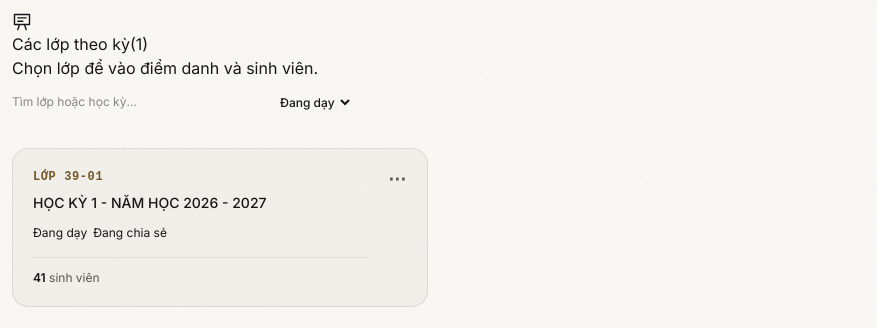
Test: TeachingClassCards › switches status filter to archived or all
// Switch to all
Select "Tất cả lớp" in the dropdown with test id "teaching-status-filter" at (314, 102), box [276,80,353,124]
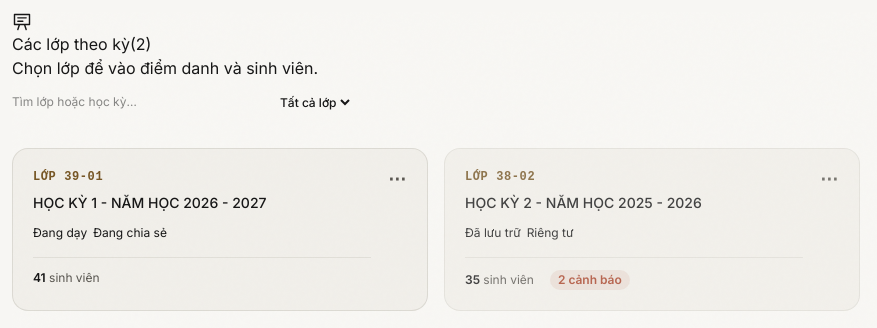
Check: the text "Lớp 39-01" is shown, box [33,170,103,184]
Check: the text "Lớp 38-02" is shown, box [465,170,535,184]
Check: the text "2 cảnh báo" is shown, box [550,270,630,290]
// Switch to archived
Select "Đã lưu trữ" in the dropdown with test id "teaching-status-filter" at (314, 102), box [276,80,353,124]
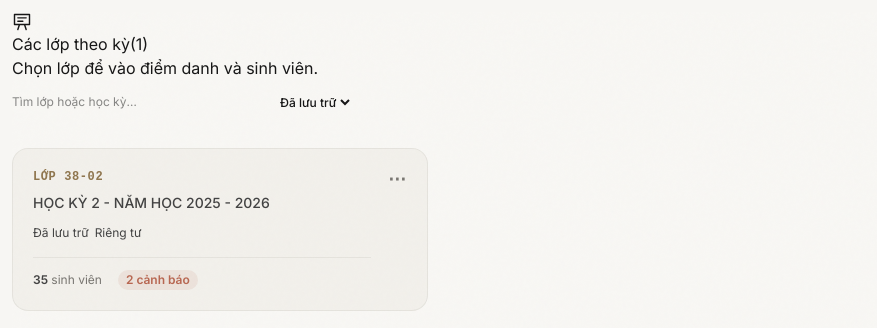
Check: the text "Lớp 38-02" is shown, box [33,170,103,184]
Check: the link "Lớp 39-01" is gone
